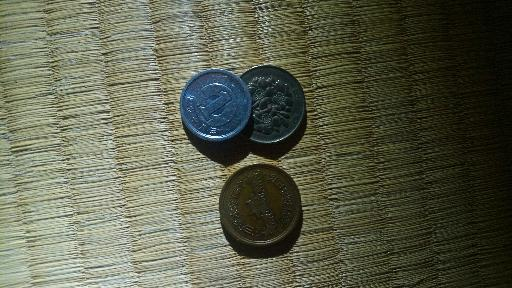100yen: (231, 66, 304, 143)
10yen: (219, 165, 301, 248)
1yen: (180, 68, 252, 143)
